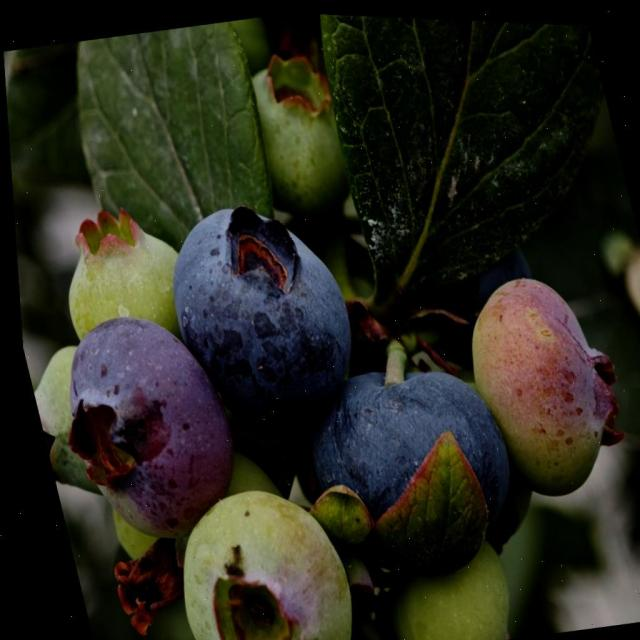RipeBlueBerry: (152, 188, 368, 438), (322, 347, 516, 541)
Semi-RipeBlueBerry: (38, 302, 246, 554), (454, 260, 630, 502)
UnripeBlueBerry: (148, 470, 358, 640)
